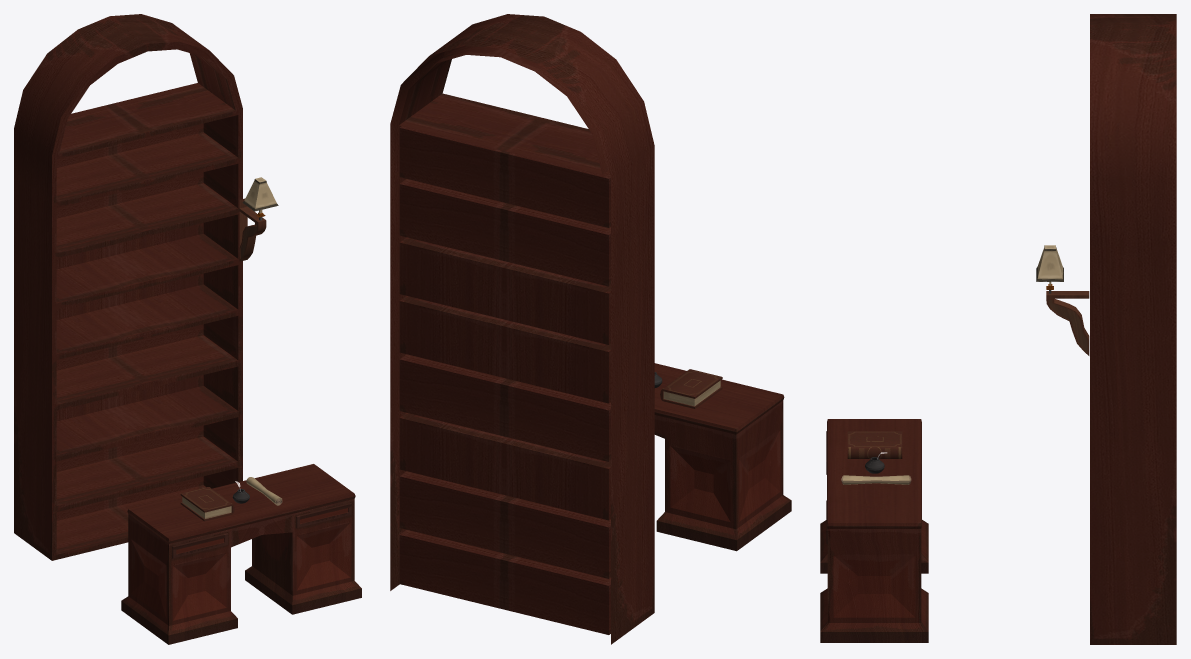
File: Library_Props.fbx
3 renders of one model, left to right at view 1: azimuth 30°, elevation 25°; view 2: azimuth 150°, elevation 25°; view 3: azimuth 270°, elevation 25°, orthographic. The views are drawn at different scales.
Visible parts, largest first — view 1: Stand, Desk, Lamp, Book; view 2: Stand, Desk, Book; view 3: Stand, Desk, Lamp, Book, Paper Roll.
Part boxes in pixels (x1,y1,x2,y2): Stand: (14, 14, 242, 560); Desk: (121, 464, 361, 644); Lamp: (239, 177, 278, 261); Book: (180, 487, 234, 521); Stand: (390, 14, 654, 644); Desk: (654, 363, 791, 551); Book: (660, 369, 722, 408); Stand: (1090, 14, 1176, 644); Desk: (820, 419, 928, 642); Lamp: (1036, 245, 1089, 355); Book: (847, 431, 902, 458); Paper Roll: (841, 475, 911, 484).
Bounding box in the file's own units: 220 × 508 × 290.
